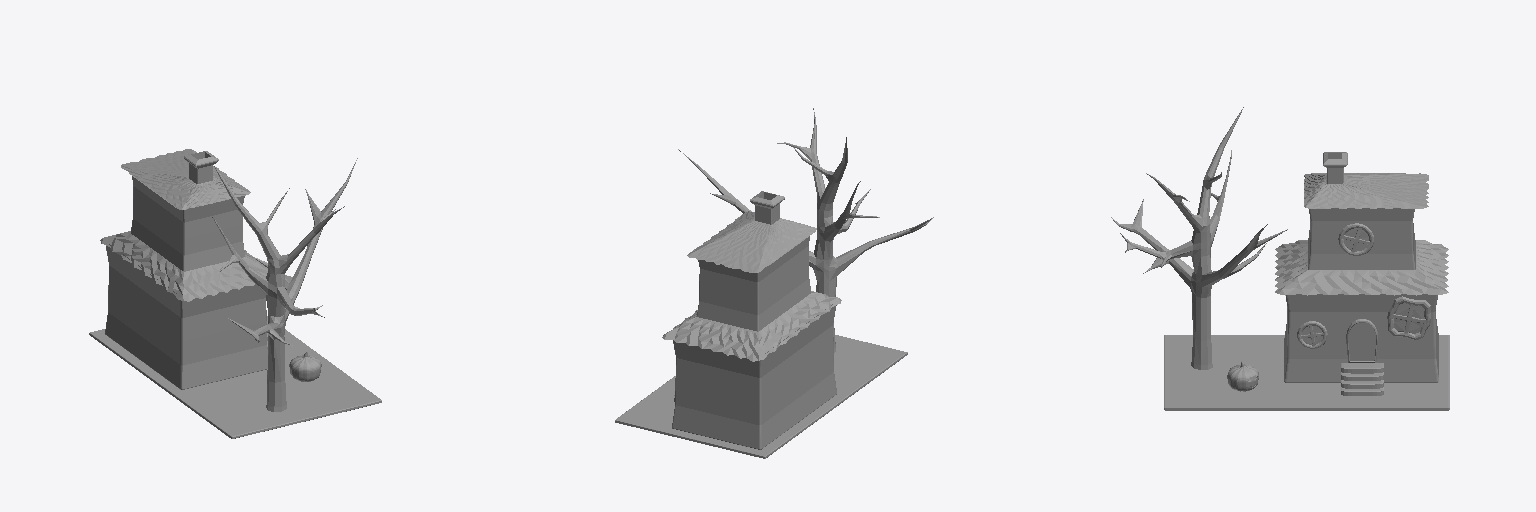
File: casa1.obj
The picture shows the model from 3 angles: view 1: azimuth 30°, elevation 25°; view 2: azimuth 150°, elevation 25°; view 3: azimuth 270°, elevation 25°; orthographic projection.
Visible parts, largest first — view 1: Cube_001; view 2: Cube_001; view 3: Cube_001.
Part boxes in pixels (x1,y1,x2,y2): Cube_001: (89,149,381,438); Cube_001: (615,108,933,458); Cube_001: (1111,107,1449,410).
Bounding box in the file's own units: 13.16 × 15.86 × 20.1.